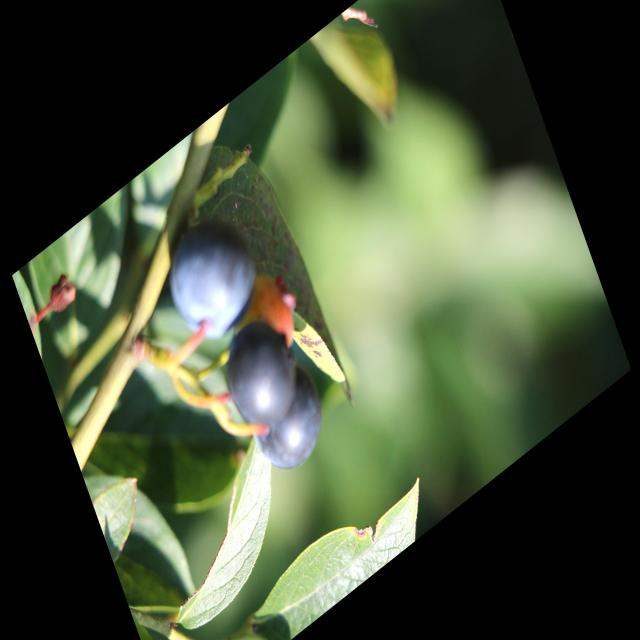blueberry: (151, 187, 273, 368), (207, 295, 315, 458), (237, 349, 340, 498)
